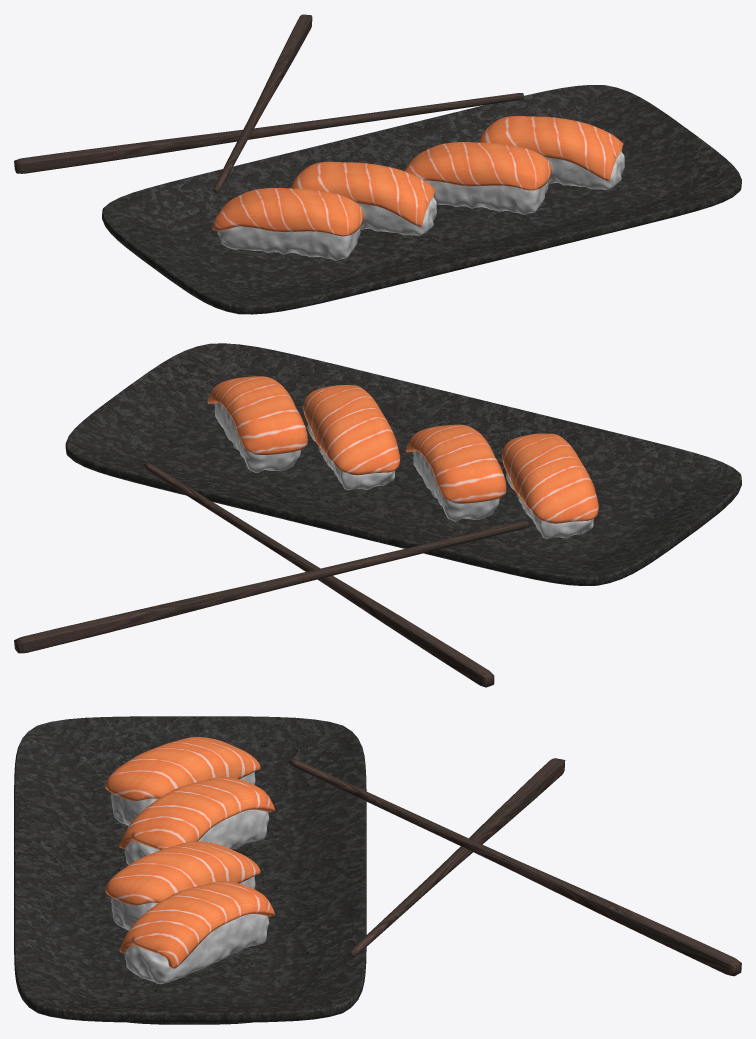
Rendered from nigiri.glb.
3 renders of one model, top to bottom at view 1: azimuth 30°, elevation 25°; view 2: azimuth 150°, elevation 25°; view 3: azimuth 270°, elevation 25°, orthographic. The views are drawn at different scales.
Parts seen in each view (by area): view 1: Plate-material, Salmon-material (×4), Rice-material (×4), Chopstick-material; view 2: Plate-material, Salmon-material (×4), Chopstick-material, Rice-material (×4); view 3: Plate-material, Salmon-material (×4), Chopstick-material, Rice-material (×4).
Boxes of the visible parts, bbox=[...] form: Plate-material: bbox=[102, 85, 741, 314]; Salmon-material (×4): bbox=[212, 116, 623, 236]; Rice-material (×4): bbox=[217, 151, 624, 260]; Chopstick-material: bbox=[14, 14, 523, 193]; Plate-material: bbox=[65, 343, 741, 585]; Salmon-material (×4): bbox=[207, 376, 598, 523]; Chopstick-material: bbox=[14, 462, 528, 687]; Rice-material (×4): bbox=[214, 402, 593, 538]; Plate-material: bbox=[14, 716, 366, 1024]; Salmon-material (×4): bbox=[105, 737, 274, 968]; Chopstick-material: bbox=[289, 758, 741, 976]; Rice-material (×4): bbox=[111, 772, 269, 984].
Bounding box in the file's own units: 0.2999 × 0.0395 × 0.3097.
Materials: 4 (4 with a texture image).
